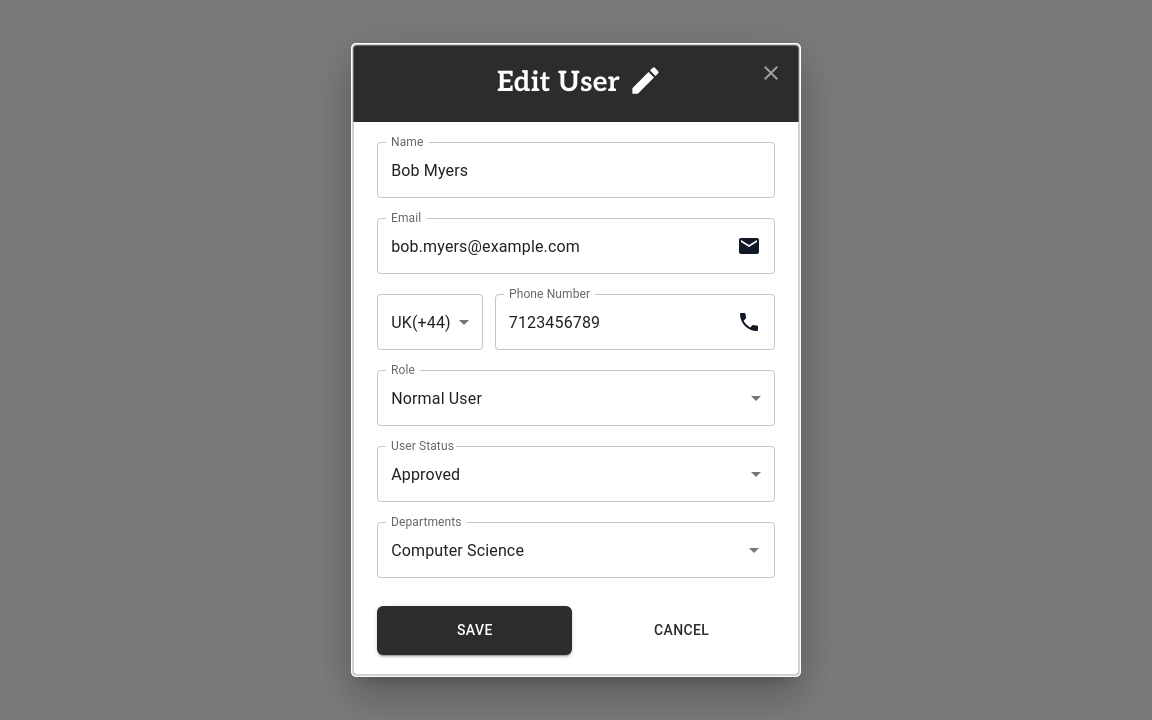
Super-admin EditDialog (user edit) › shows error helper when name is cleared
Clear the field labelled "Name": (576, 170) 377,142 -> 775,198
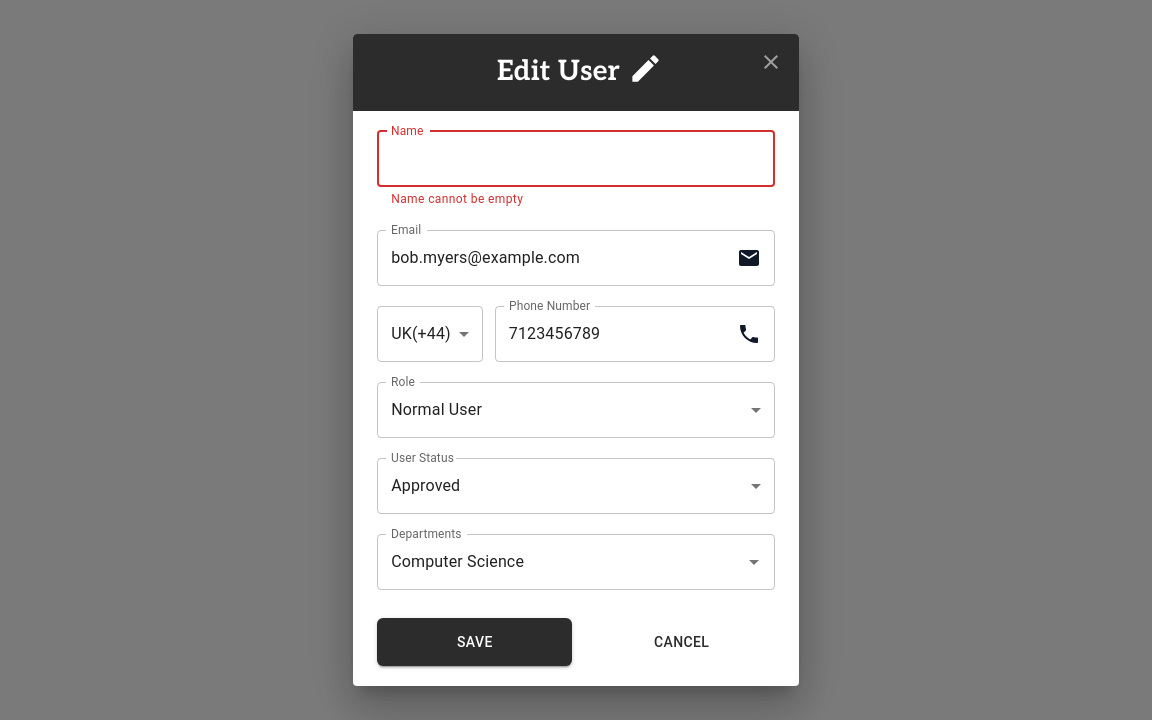
Expected: the text "Name cannot be empty" is shown, 391,192 -> 523,206
